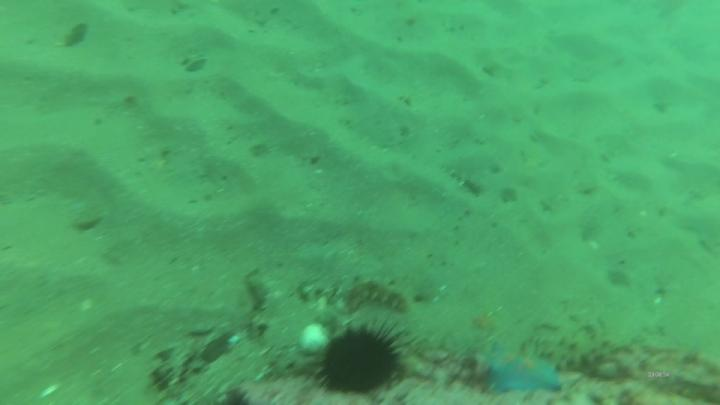echinus: (316, 317, 413, 398)
holothurian: (335, 277, 412, 315), (540, 334, 612, 371)
starfish: (480, 341, 569, 397)
